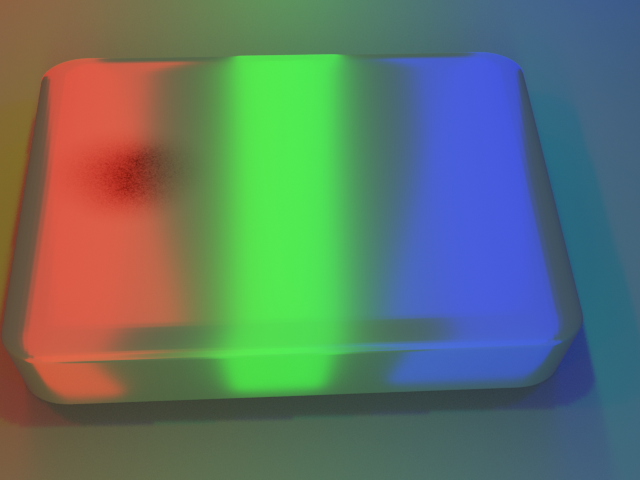stain: (0, 99, 257, 240)
